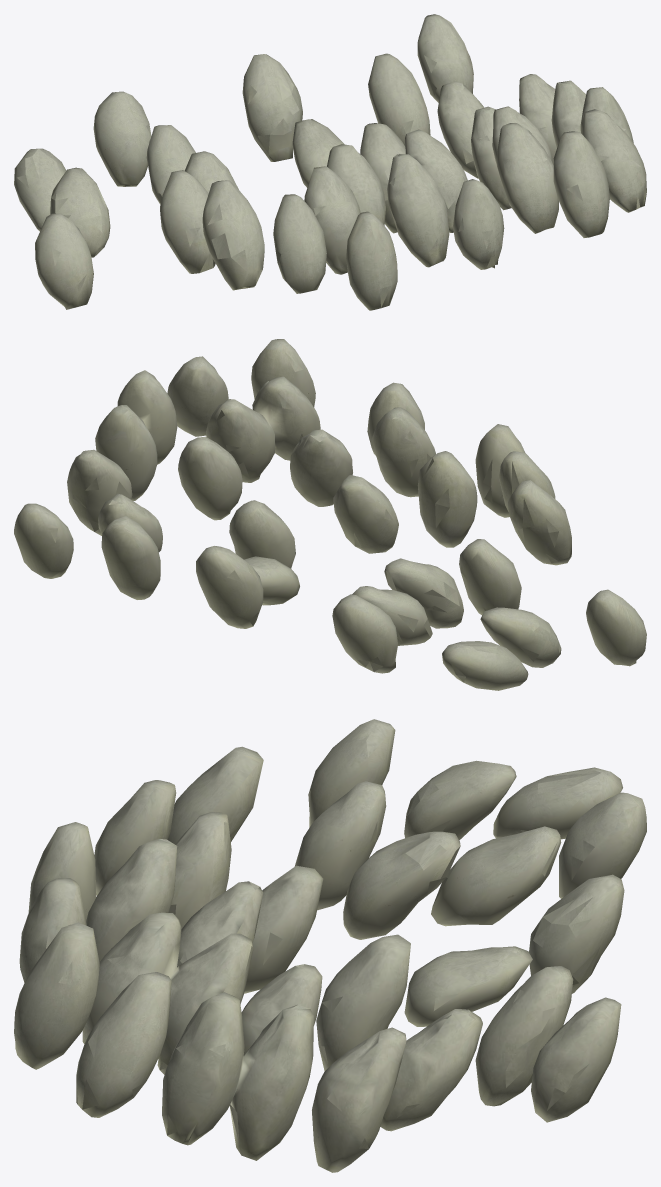
The model's file is huevos.fbx.
3 views of the same model, one above another, from view 1: azimuth 30°, elevation 25°; view 2: azimuth 150°, elevation 25°; view 3: azimuth 270°, elevation 25° (orthographic). The views are drawn at different scales.
Parts seen in each view (by area): view 1: tripo_node_bfd3aac0; view 2: tripo_node_bfd3aac0; view 3: tripo_node_bfd3aac0.
Part boxes in pixels (box(x1,y1,x2,y2)): tripo_node_bfd3aac0: box(14, 14, 646, 310); tripo_node_bfd3aac0: box(14, 339, 646, 690); tripo_node_bfd3aac0: box(14, 719, 646, 1172).
Bounding box in the file's own units: 2.84 × 0.7281 × 2.
1 material, 1 textured.
